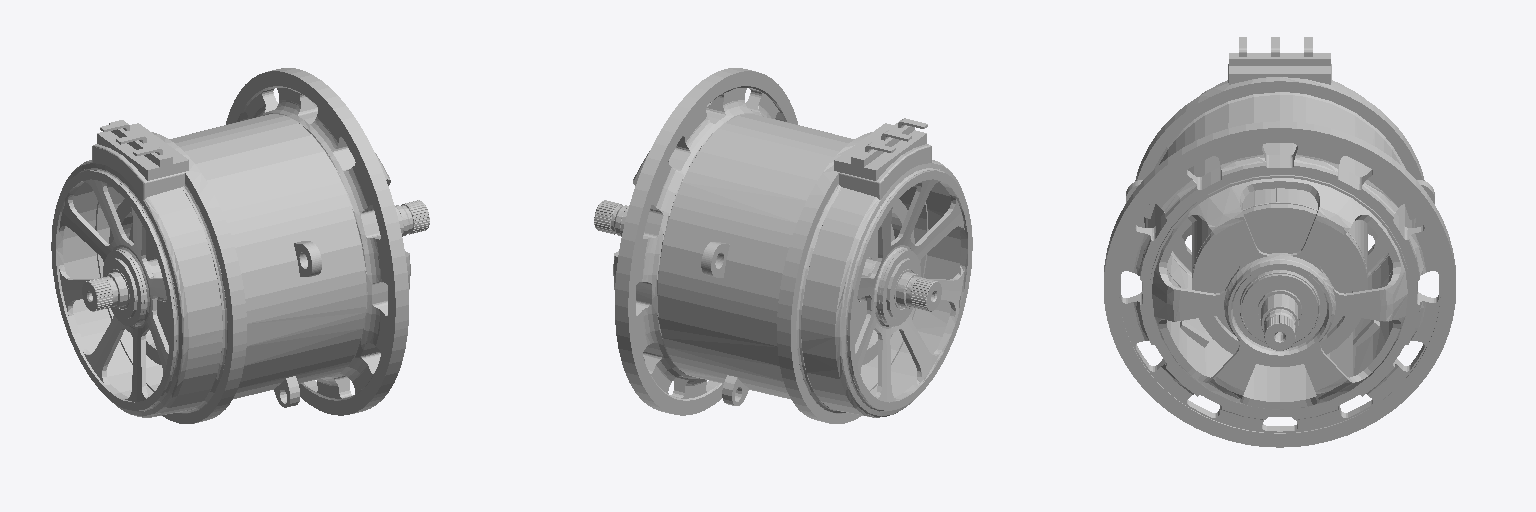
The model's file is Motor eléctrico 1.obj.
The picture shows the model from 3 angles: view 1: azimuth 30°, elevation 25°; view 2: azimuth 150°, elevation 25°; view 3: azimuth 270°, elevation 25°; orthographic projection.
Visible parts, largest first — view 1: Solid12, Eje, Solid11, Bobina, Oreja; view 2: Solid12, Eje, Solid11, Bobina, Oreja.1; view 3: Solid12, Bobina, Solid2, Eje.
Part boxes in pixels (x1,y1,x2,y2): Solid12: (51,68,410,423); Eje: (82,200,429,311); Solid11: (103,250,143,326); Bobina: (109,199,169,364); Oreja: (294,241,321,276); Solid12: (613,68,972,423); Eje: (594,200,941,311); Solid11: (880,250,920,326); Bobina: (854,199,914,364); Oreja.1: (701,242,729,277); Solid12: (1104,37,1455,447); Bobina: (1192,188,1367,366); Solid2: (1242,274,1317,341); Eje: (1261,294,1298,350).
Size of the model in its own units: 11.68 by 10.73 by 10.73.